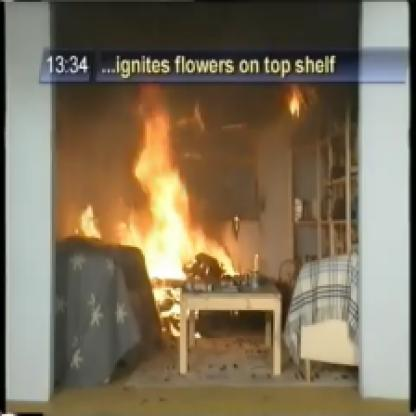fire: (116, 91, 252, 332), (71, 186, 110, 256), (280, 75, 307, 141)
